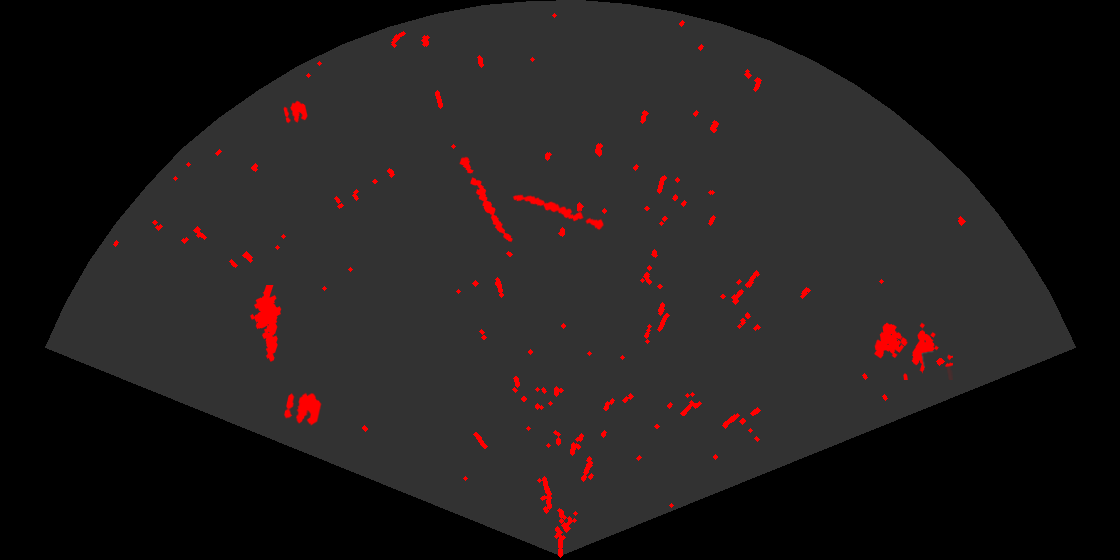ball: (282, 391, 323, 427), (282, 99, 309, 125)
cage: (873, 321, 953, 380)
chain: (458, 155, 514, 243), (511, 193, 606, 232)
frogman: (249, 285, 283, 363)
